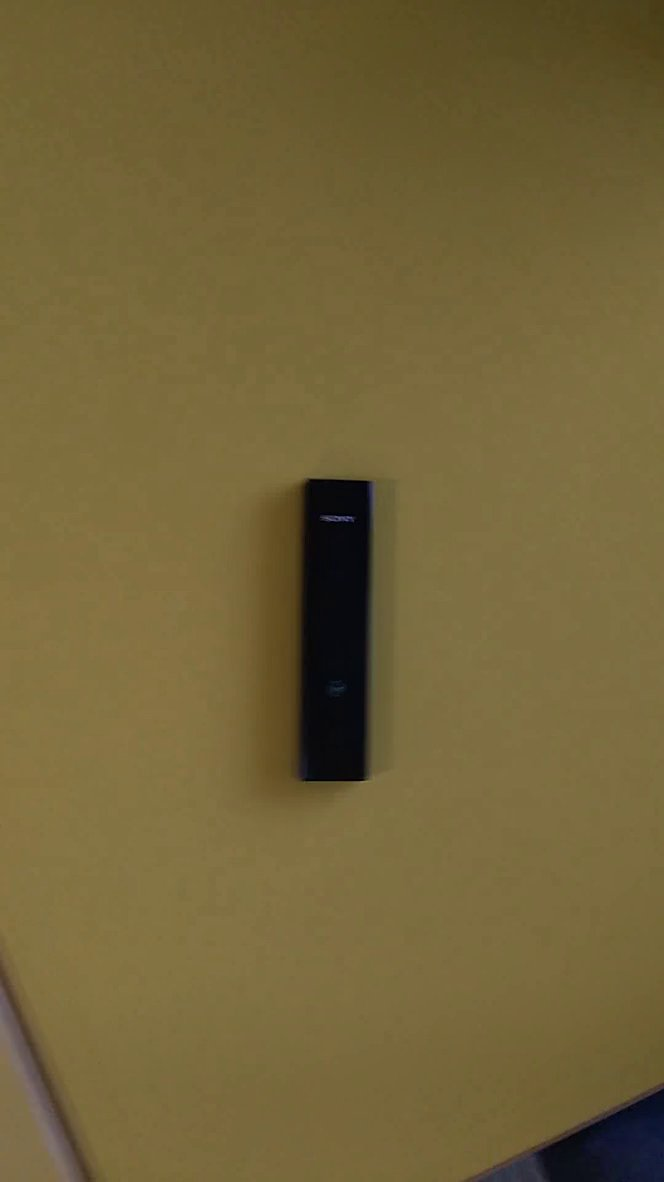remote: (280, 467, 398, 791)
